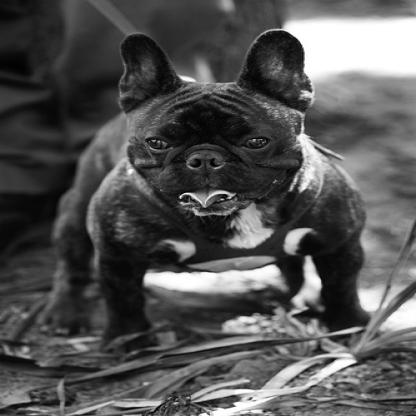French_bulldog: (30, 25, 372, 351)
